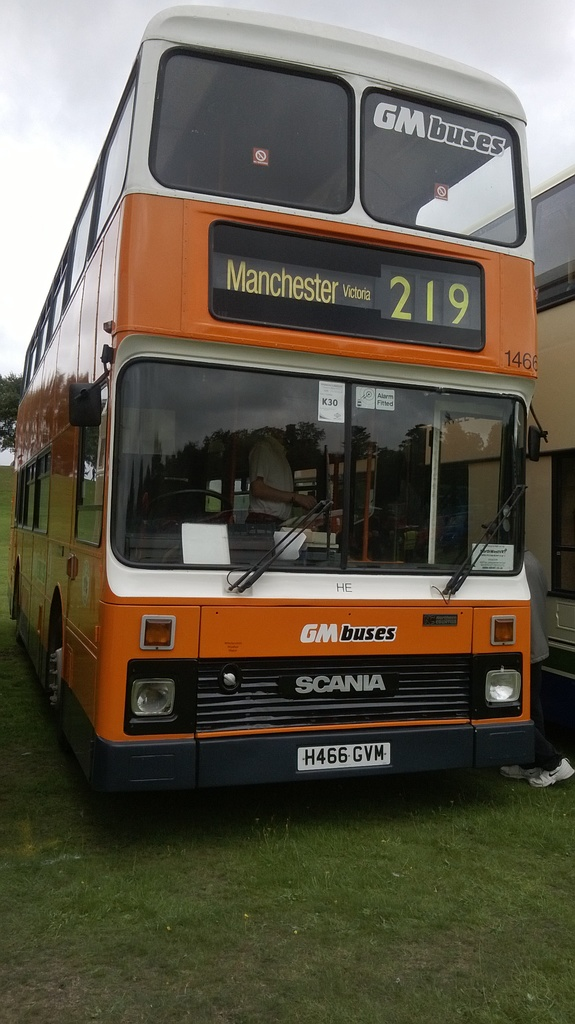Bus: (3, 0, 540, 821), (286, 160, 574, 688)
